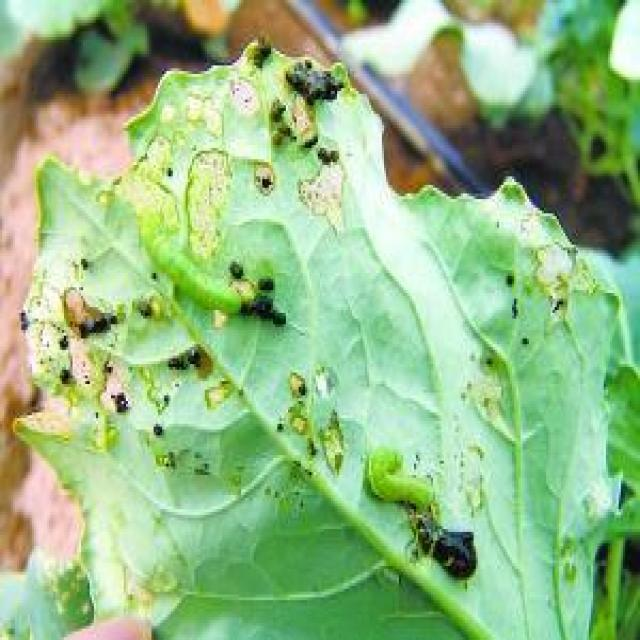BeetArmyWorm-Larva-: (132, 204, 244, 329), (362, 440, 435, 511)
